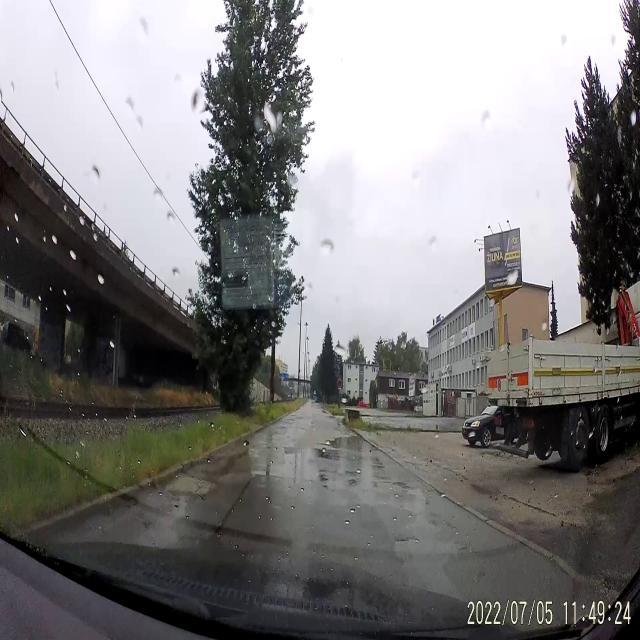Pothole: (170, 469, 212, 502), (393, 482, 427, 516), (390, 532, 422, 562), (318, 468, 330, 490), (370, 478, 380, 491), (348, 478, 358, 487), (344, 470, 356, 476)
